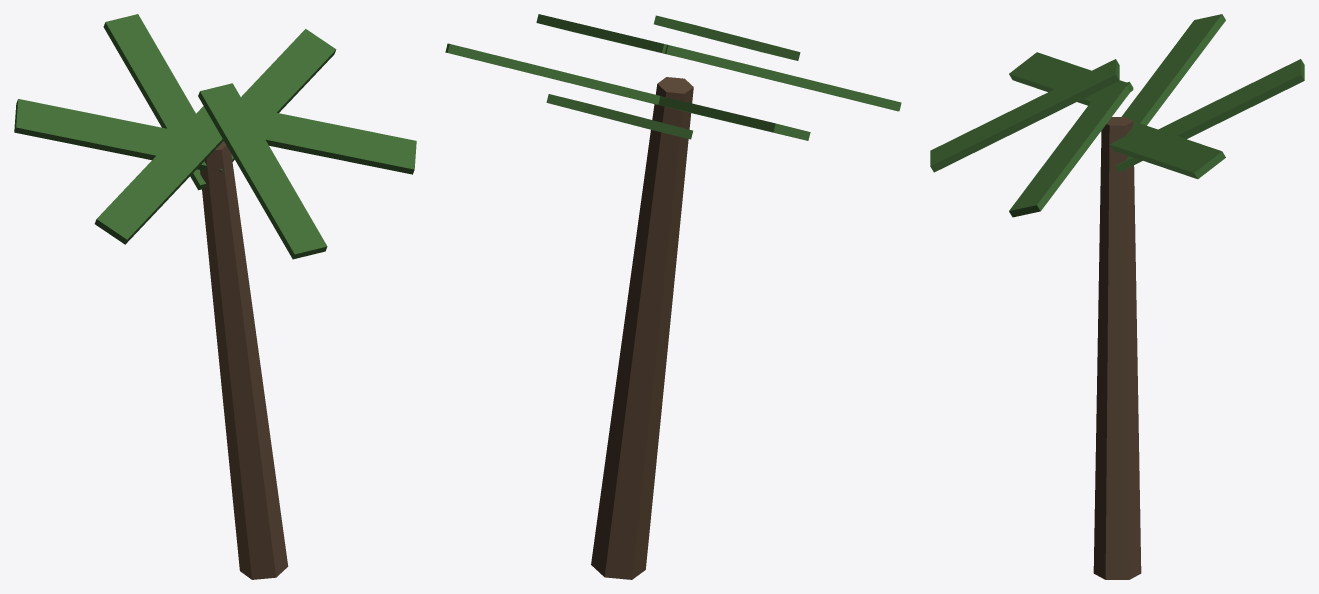
The model's file is tree-palm.glb.
3 renders of one model, left to right at view 1: azimuth 30°, elevation 25°; view 2: azimuth 150°, elevation 25°; view 3: azimuth 270°, elevation 25°, orthographic. The views are drawn at different scales.
Visible parts, largest first — view 1: trunk, frond_0, frond_5, frond_1, frond_4, frond_3, frond_2; view 2: trunk, frond_5, frond_2, frond_4, frond_0, frond_3, frond_1; view 3: trunk, frond_0, frond_1, frond_3, frond_4, frond_2, frond_5.
Boxes of the visible parts, bbox=[...] form: trunk: bbox=[200, 141, 288, 579]; frond_0: bbox=[198, 83, 327, 259]; frond_5: bbox=[94, 106, 223, 244]; frond_1: bbox=[205, 106, 416, 174]; frond_4: bbox=[14, 99, 225, 170]; frond_3: bbox=[103, 14, 205, 190]; frond_2: bbox=[219, 29, 336, 172]; trunk: bbox=[591, 77, 693, 579]; frond_5: bbox=[661, 44, 901, 111]; frond_2: bbox=[445, 43, 660, 104]; frond_4: bbox=[652, 96, 810, 140]; frond_0: bbox=[654, 15, 800, 60]; frond_3: bbox=[546, 94, 692, 139]; frond_1: bbox=[536, 14, 679, 57]; trunk: bbox=[1093, 117, 1141, 579]; frond_0: bbox=[930, 59, 1119, 172]; frond_1: bbox=[1009, 81, 1133, 217]; frond_3: bbox=[1115, 59, 1304, 172]; frond_4: bbox=[1101, 14, 1225, 143]; frond_2: bbox=[1110, 121, 1225, 179]; frond_5: bbox=[1009, 52, 1133, 105].
Size of the model in its own units: 1.37 by 2.03 by 1.42.
